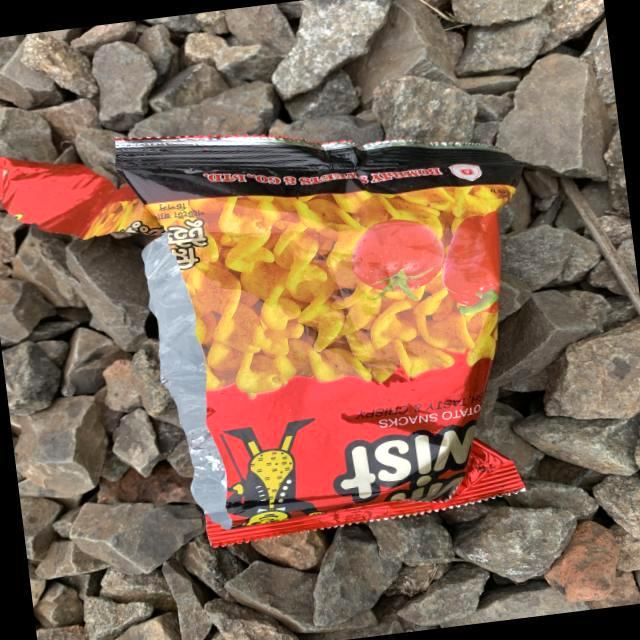packet: (174, 155, 495, 509)
